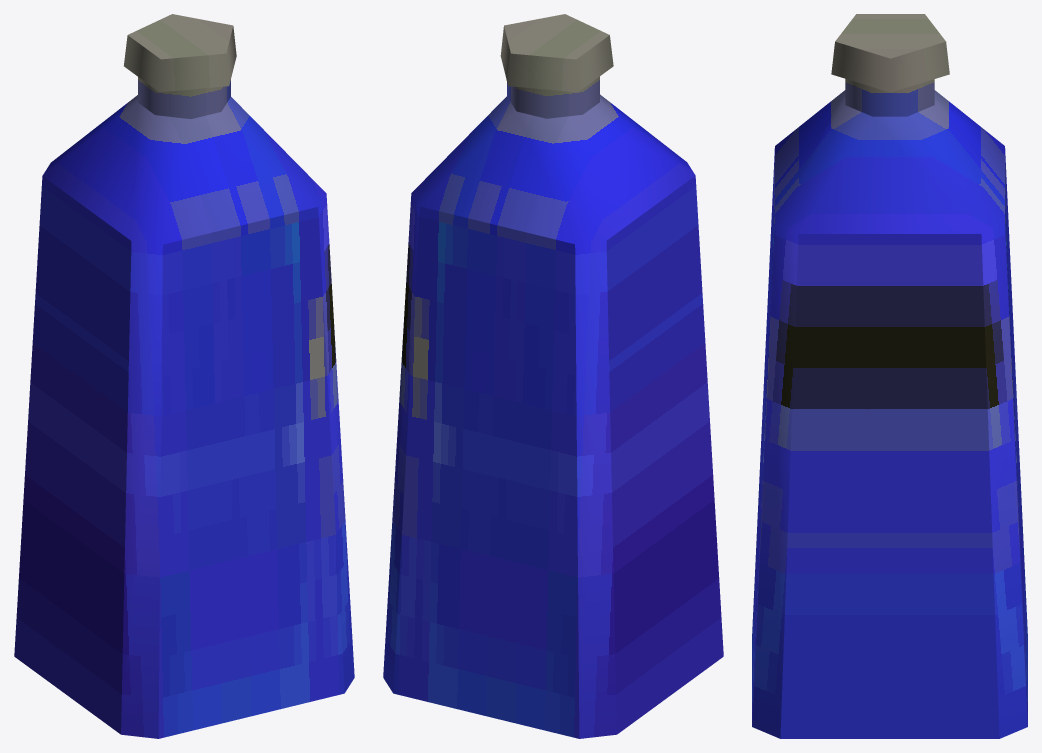
The model's file is eqp_bottle_s02_l2.fbx.
3 renders of one model, left to right at view 1: azimuth 30°, elevation 25°; view 2: azimuth 150°, elevation 25°; view 3: azimuth 270°, elevation 25°, orthographic. The views are drawn at different scales.
Visible parts, largest first — view 1: mesh_node; view 2: mesh_node; view 3: mesh_node.
Part boxes in pixels (<box>): mesh_node: <box>14,14,354,738</box>; mesh_node: <box>383,14,723,738</box>; mesh_node: <box>752,14,1027,738</box>.
Size of the model in its own units: 0.0412 by 0.1061 by 0.041.
